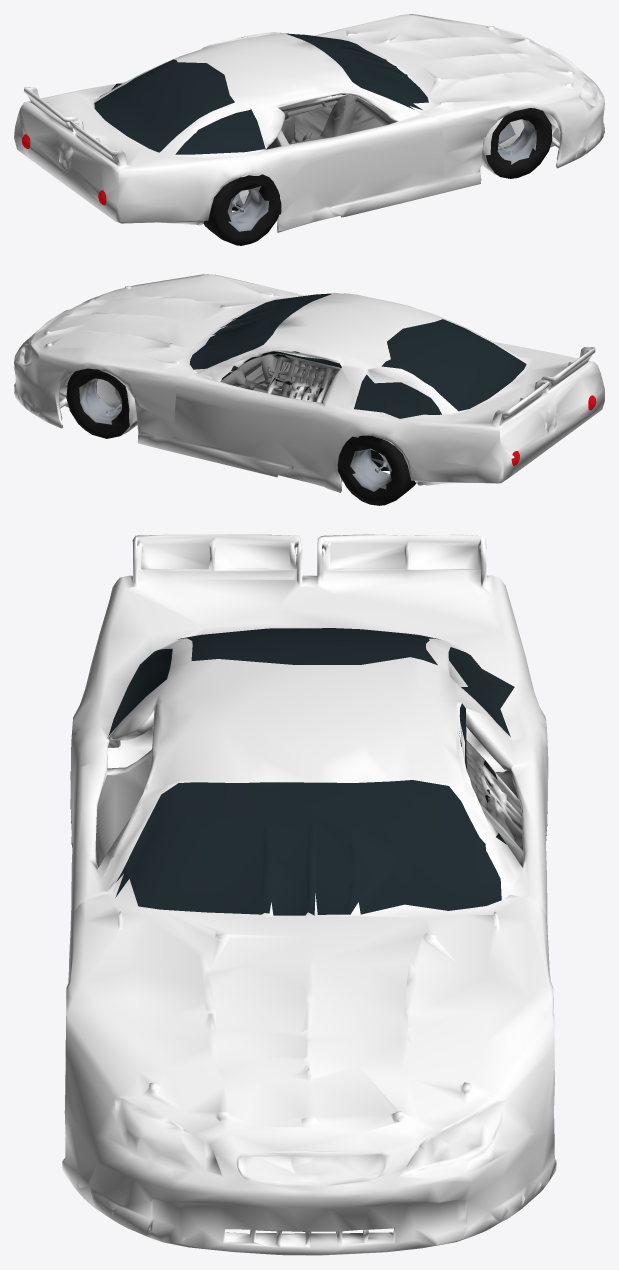
The model's file is car_slm_lod1.glb.
3 views of the same model, one above another, from view 1: azimuth 30°, elevation 25°; view 2: azimuth 150°, elevation 25°; view 3: azimuth 270°, elevation 25° (orthographic). The views are drawn at different scales.
Parts seen in each view (by area): view 1: Body, Tire_RL, Tire_FL; view 2: Body, Tire_RR, Tire_FR; view 3: Body.
Part boxes in pixels (x1,y1,x2,y2): Body: (14, 14, 604, 232); Tire_RL: (203, 174, 281, 245); Tire_FL: (485, 108, 552, 178); Body: (14, 274, 604, 492); Tire_RR: (337, 435, 416, 505); Tire_FR: (66, 368, 129, 438); Body: (62, 534, 556, 1255).
Bounding box in the file's own units: 5.33 × 1.22 × 2.19.
4 materials, 4 textured.
